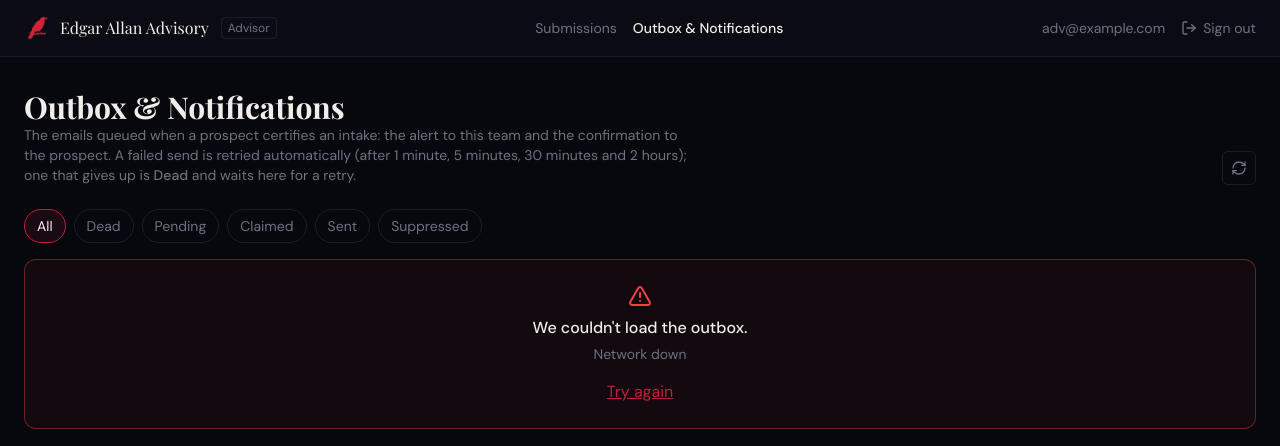
AdvisorOutboxPage › when it cannot load › offers a retry for any other failure
Check: the text "We couldn't load the outbox." is shown, box left=533, top=317, right=748, bottom=338
Check: the text "Network down" is shown, box left=594, top=345, right=687, bottom=363
Click the button "Try again": (640, 392) left=607, top=380, right=673, bottom=404
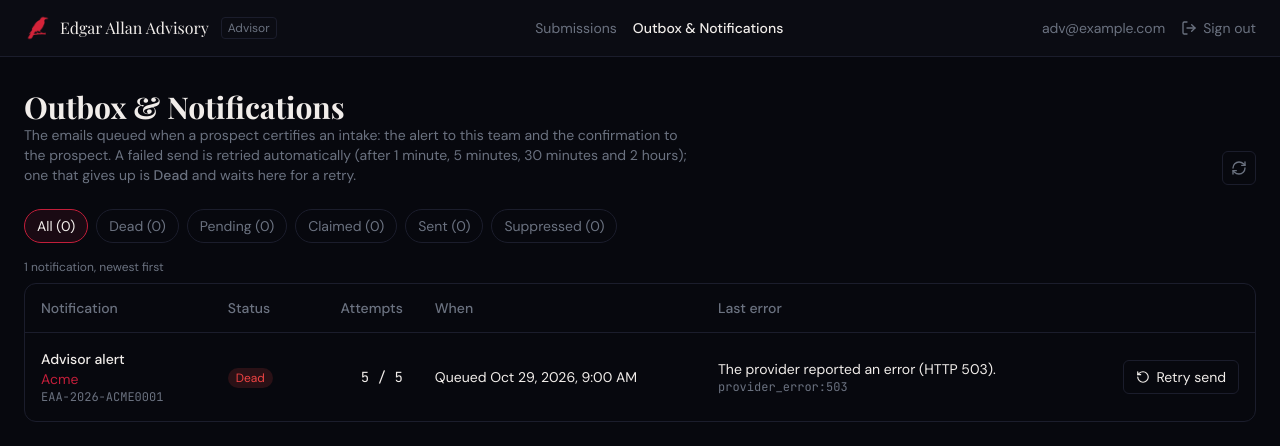
Check: the link "Acme" is shown, box left=41, top=370, right=78, bottom=388
